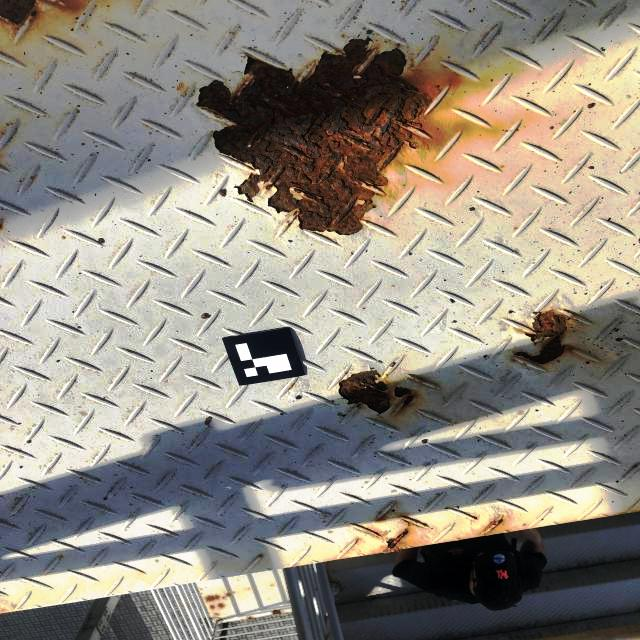Corrosion: (197, 38, 429, 234), (515, 310, 568, 365), (339, 370, 391, 414), (384, 518, 416, 554), (0, 0, 35, 23), (392, 387, 416, 415), (482, 520, 501, 536), (367, 527, 381, 537), (205, 595, 220, 602), (272, 609, 282, 614), (222, 594, 230, 599), (218, 603, 224, 608), (246, 616, 254, 619), (209, 605, 215, 609), (214, 613, 219, 615)
